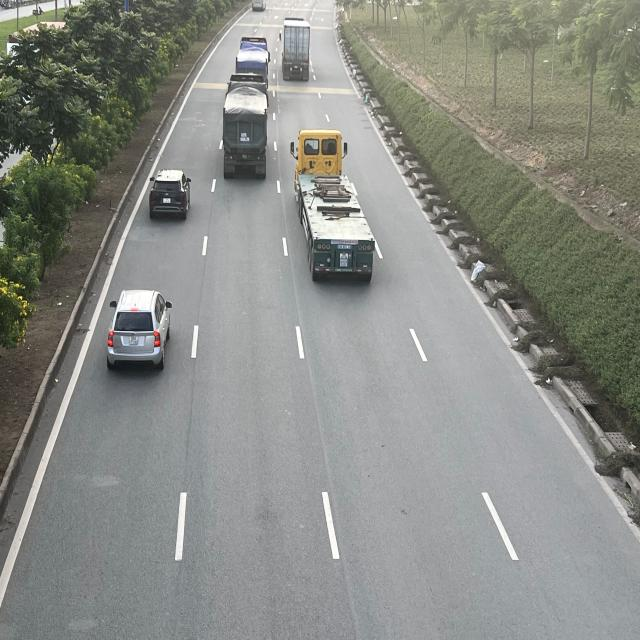car: (105, 287, 173, 368), (148, 168, 190, 220)
container: (291, 128, 376, 279), (222, 75, 268, 177), (280, 17, 310, 81), (235, 36, 270, 78)
